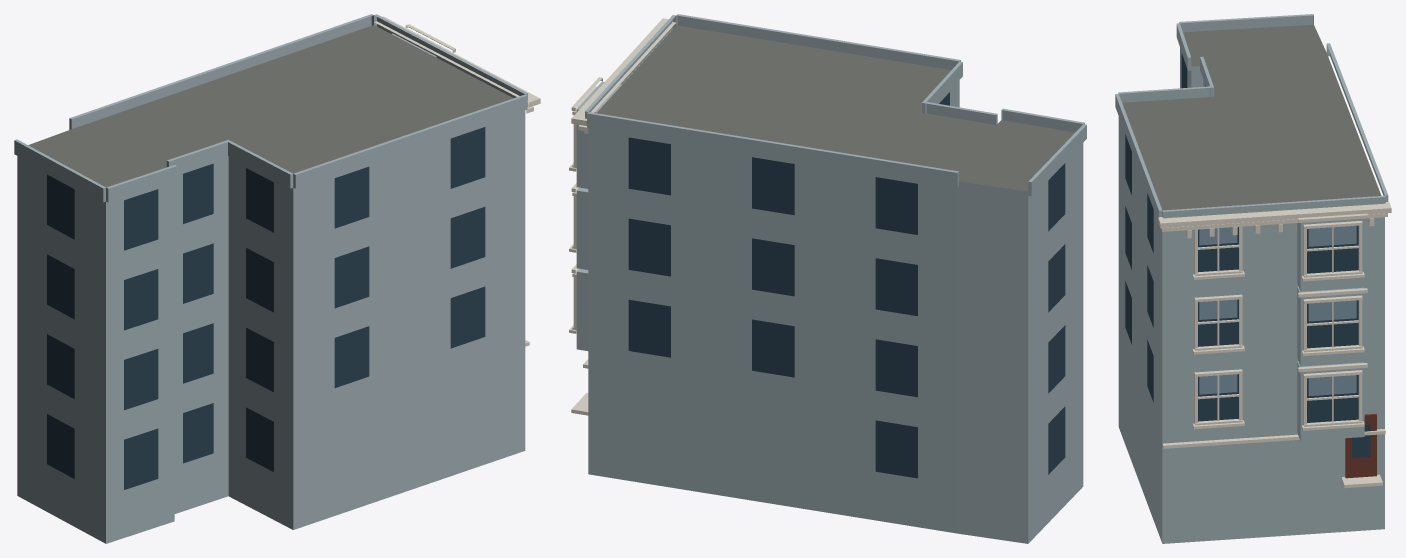
3 renders of one model, left to right at view 1: azimuth 30°, elevation 25°; view 2: azimuth 150°, elevation 25°; view 3: azimuth 270°, elevation 25°, orthographic. The views are drawn at different scales.
Parts seen in each view (by area): view 1: Footprint 0 / surface 2, Inset glazing, Footprint 0 / surface 1, Facade bay volumes, Cornices and window frames; view 2: Footprint 0 / surface 2, Footprint 0 / surface 1, Inset glazing, Facade bay volumes, Cornices and window frames; view 3: Footprint 0 / surface 2, Footprint 0 / surface 1, Cornices and window frames, Facade bay volumes, Inset glazing, Sky reflection panels, Storefronts and doors.
Boxes of the visible parts, left/top/right/bottom form: Footprint 0 / surface 2: left=17, top=110, right=525, bottom=543; Inset glazing: left=47, top=127, right=485, bottom=489; Footprint 0 / surface 1: left=28, top=25, right=513, bottom=187; Facade bay volumes: left=14, top=14, right=527, bottom=202; Cornices and window frames: left=374, top=16, right=540, bottom=346; Footprint 0 / surface 2: left=588, top=80, right=1083, bottom=543; Footprint 0 / surface 1: left=596, top=25, right=1074, bottom=191; Inset glazing: left=628, top=92, right=1065, bottom=478; Facade bay volumes: left=576, top=14, right=1086, bottom=350; Cornices and window frames: left=569, top=18, right=675, bottom=415; Footprint 0 / surface 2: left=1118, top=48, right=1384, bottom=543; Footprint 0 / surface 1: left=1122, top=24, right=1381, bottom=210; Cornices and window frames: left=1158, top=202, right=1391, bottom=488; Facade bay volumes: left=1115, top=14, right=1388, bottom=441; Inset glazing: left=1125, top=53, right=1370, bottom=458; Sky reflection panels: left=1199, top=225, right=1356, bottom=395; Storefronts and doors: left=1345, top=413, right=1376, bottom=478.
Size of the model in its own units: 16.65 by 12.75 by 9.57.
